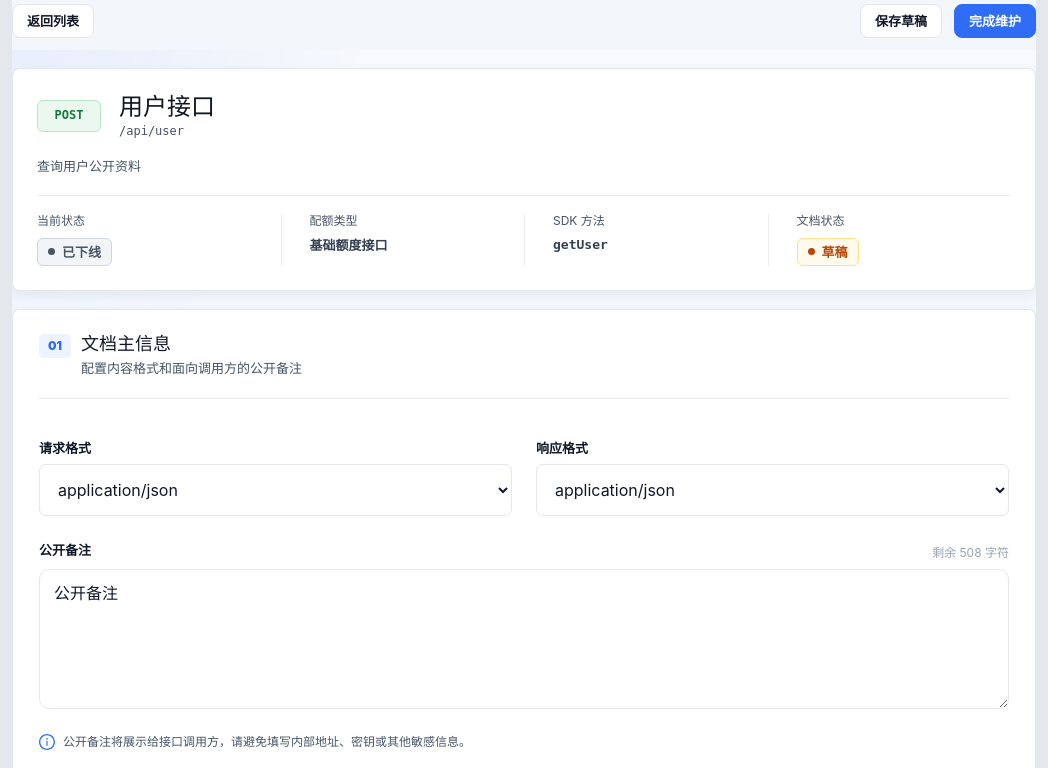
Scenario: InterfaceDocMaintenanceView › 字段更新后显示脏状态并允许保存
Replace the text in the text box labelled "公开备注 剩余 508 字符" with "更新备注" at (524, 639), box [39, 569, 1009, 709]
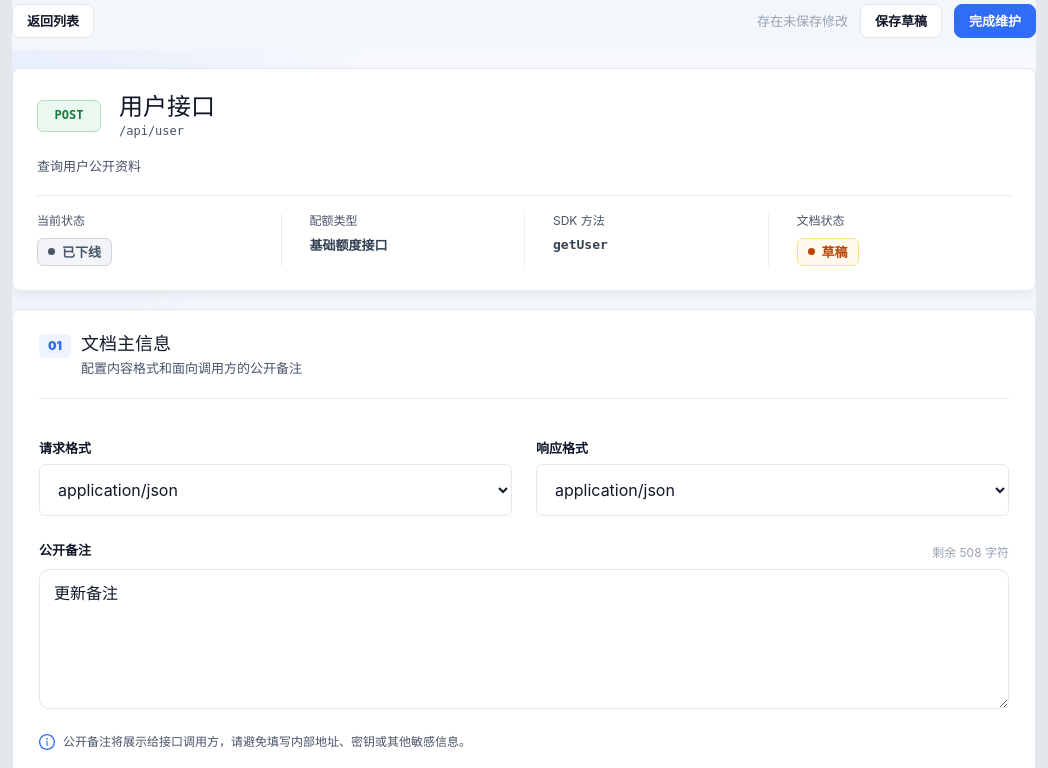
Check: the text "存在未保存修改" is shown, box [757, 14, 848, 28]
